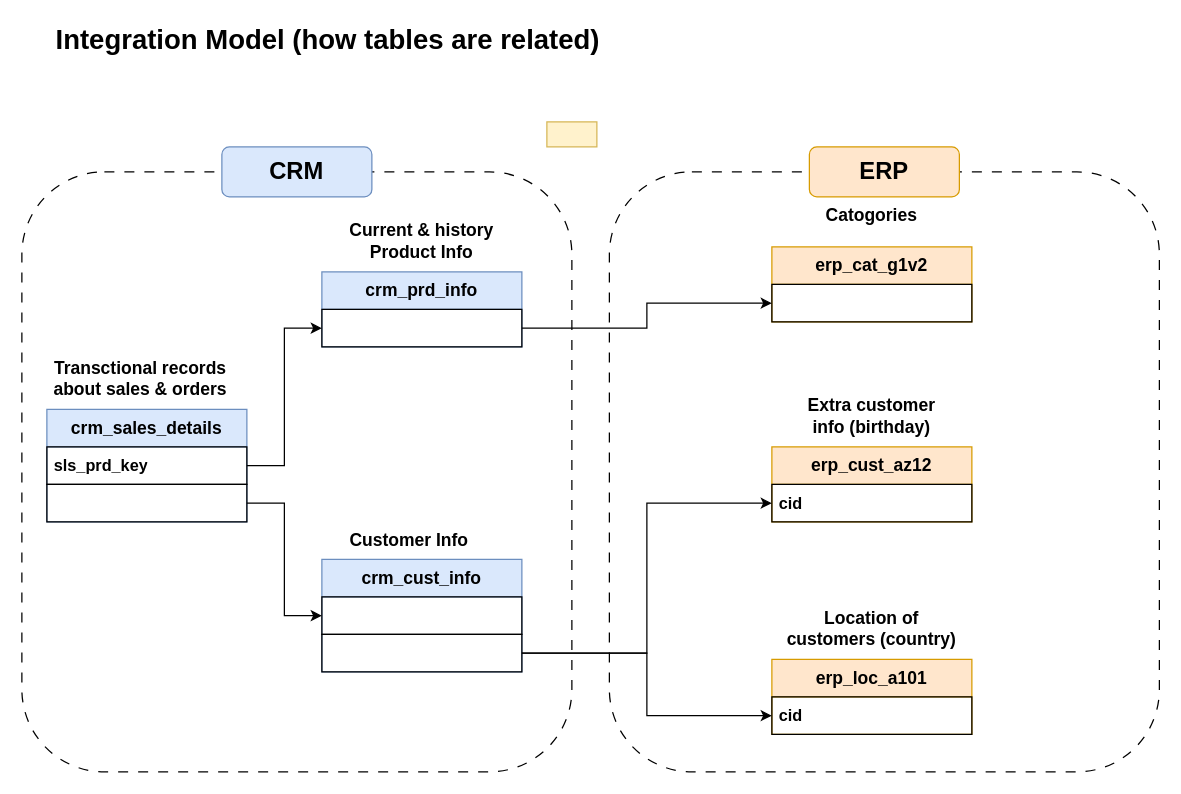
The diagram is 1181 pixels wide and 794 high, and some of its shapes have lost their labels. Here are the shapes that lost their labels. From the top down, the centre of each, then its label:
At [571,134]: "A01".
At [871,302]: "id".
At [421,327]: "prd_key".
At [146,502]: "sls_cust_id".
At [421,615]: "cst_id".
At [421,652]: "cst_key".
